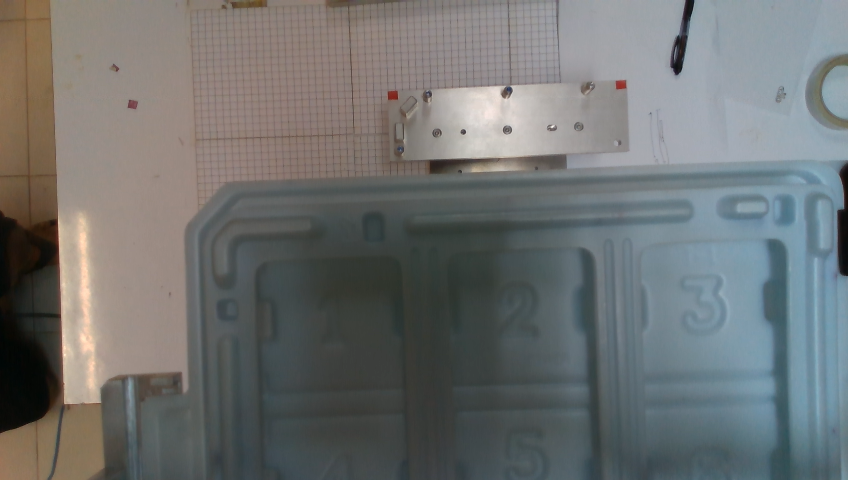red: (388, 91, 398, 100), (616, 80, 626, 89)
